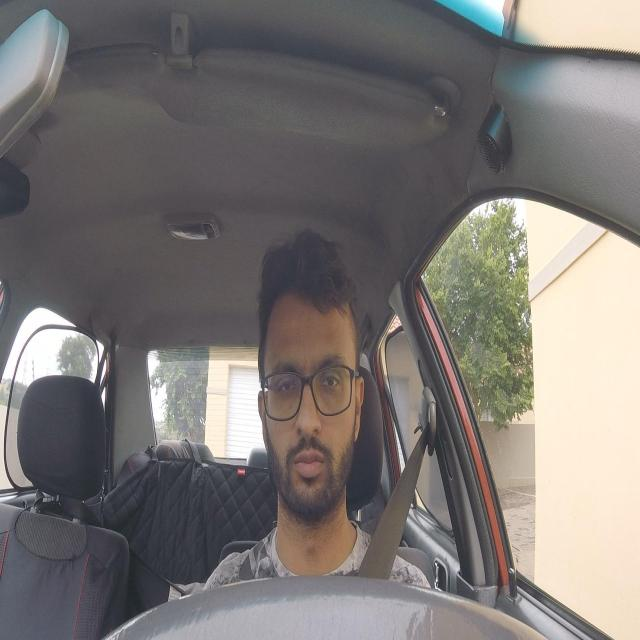open: (268, 351, 305, 406), (314, 346, 349, 404)
